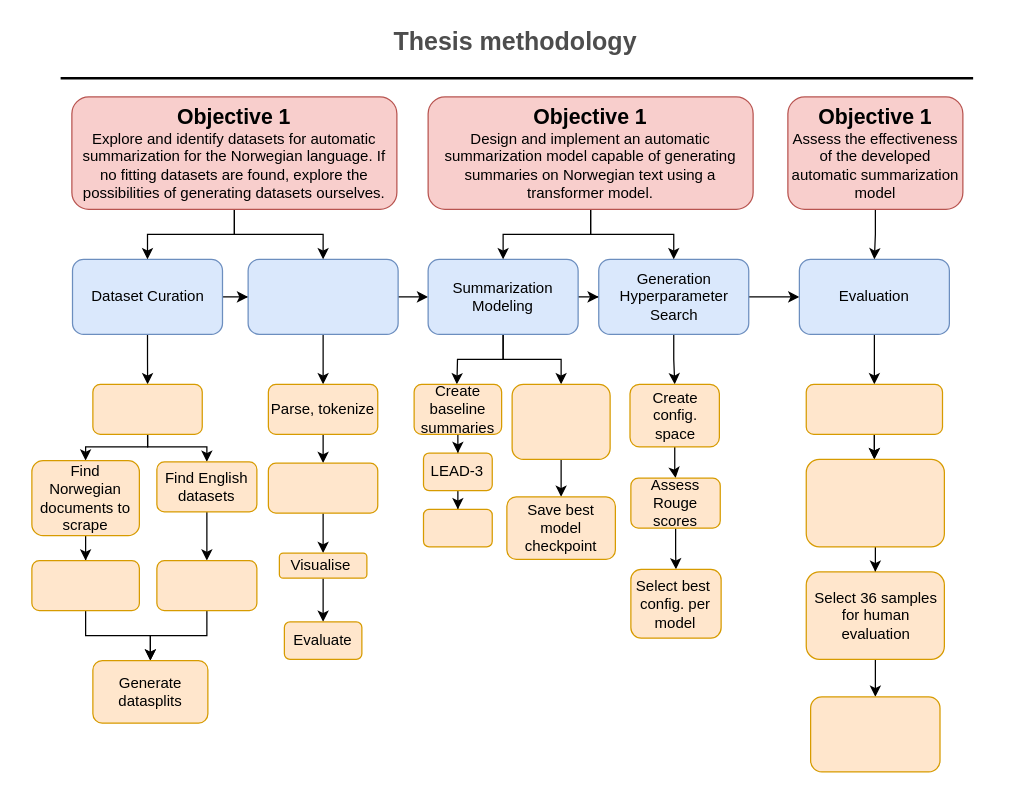
Image size: 1030x794. Some labels were removed from this diagram. Here are the shapes that lost their labels. From the top down, the centre of each, then its label:
At [322,296]: "Exploration".
At [147,408]: "Search for existing datasets".
At [560,421]: "Train abstractive North-T5 models".
At [873,408]: "Use best config. for inference on test split".
At [322,487]: "Aggregate".
At [874,502]: "Calculate ROUGE, density, coverage, compression and match ratio".
At [457,527]: "Textrank".
At [85,585]: "Web scraping".
At [206,585]: "Translation".
At [874,734]: "Score 1-5 on dimensions".
